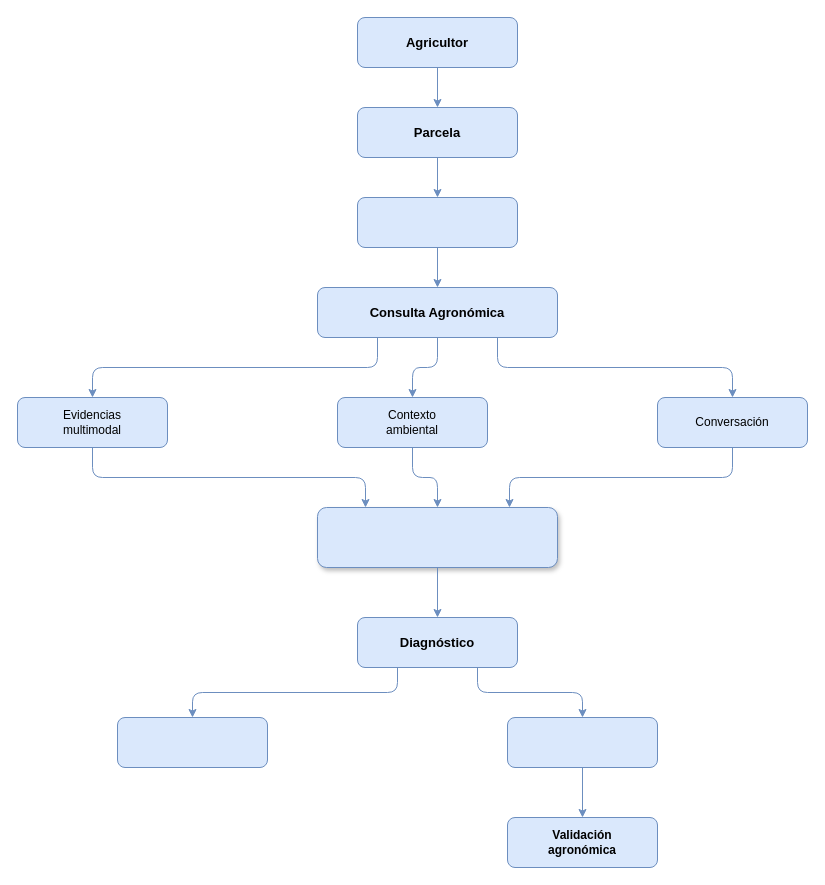
Some shapes in this 825 by 885 pixel diagram are drawn without their labels. The shapes that lost their labels are listed below. From the top down, each one's centre as x and y in pixels, then its label:
At point 437,222: "Cultivo".
At point 438,538: "MOTOR IA AgroCortex".
At point 192,742: "Hipótesis".
At point 582,742: "Recomendación".
